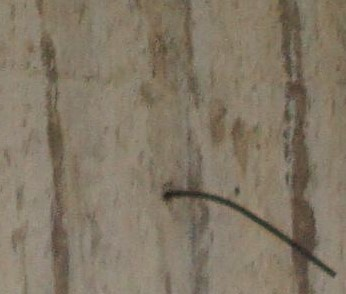Exposed reinforcement: (162, 189, 337, 280)
